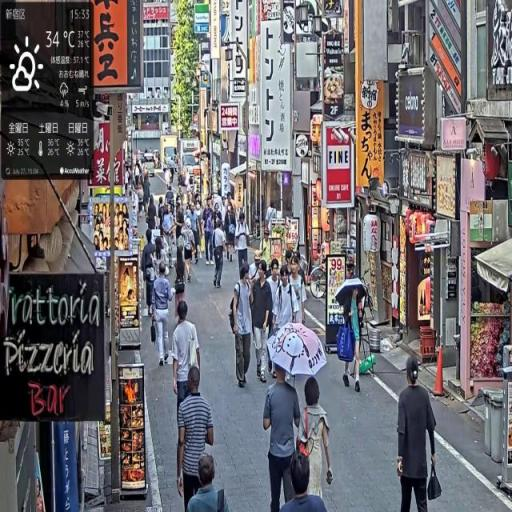person: (396, 353, 440, 512), (263, 353, 305, 512), (178, 364, 216, 511), (301, 376, 335, 497), (173, 297, 202, 420), (231, 268, 256, 391), (250, 263, 275, 386), (281, 450, 329, 512), (187, 450, 232, 512), (152, 261, 175, 369), (289, 258, 307, 327), (212, 219, 228, 291), (182, 219, 198, 285), (204, 200, 216, 267)
